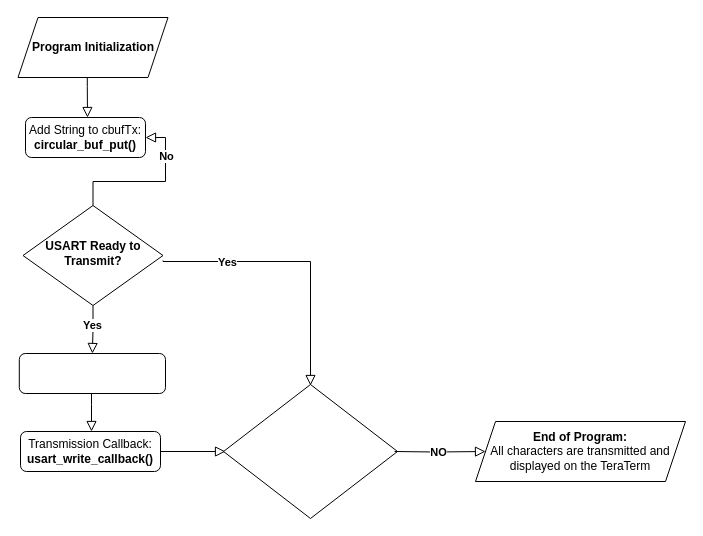
Some shapes in this 703 by 536 pixel diagram are drawn without their labels. Here are the shapes that lost their labels. From the top down, the centre of each, then its label:
At pixel 92 373: "Transmit Character: usart_write_buffer_job()".
At pixel 310 451: "Remaining characters in cbufTx?".
